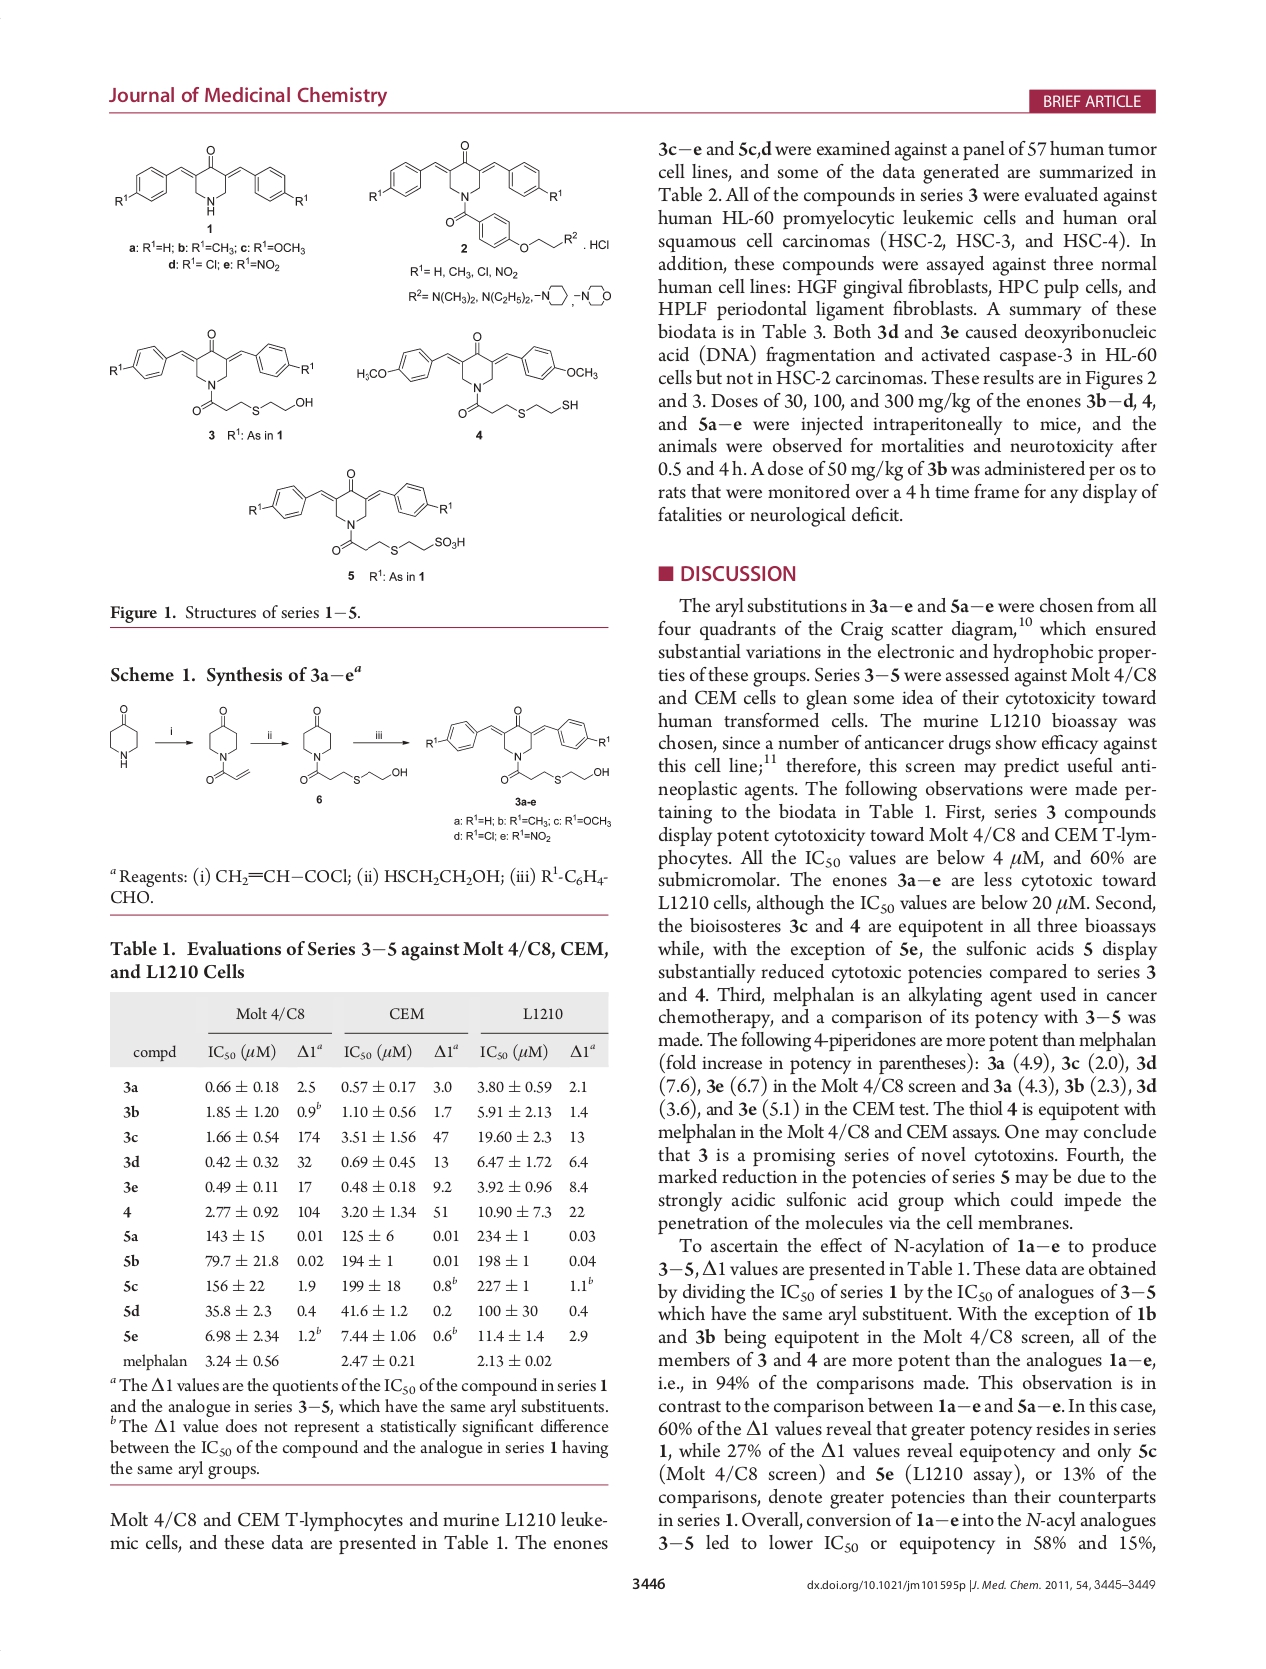exist_molecular: (360, 137, 581, 258), (352, 327, 602, 424), (106, 322, 319, 422), (243, 468, 469, 561), (422, 704, 616, 789), (109, 142, 313, 218), (297, 704, 410, 789), (199, 702, 254, 785), (96, 702, 141, 770), (531, 278, 572, 311), (574, 278, 613, 309)
